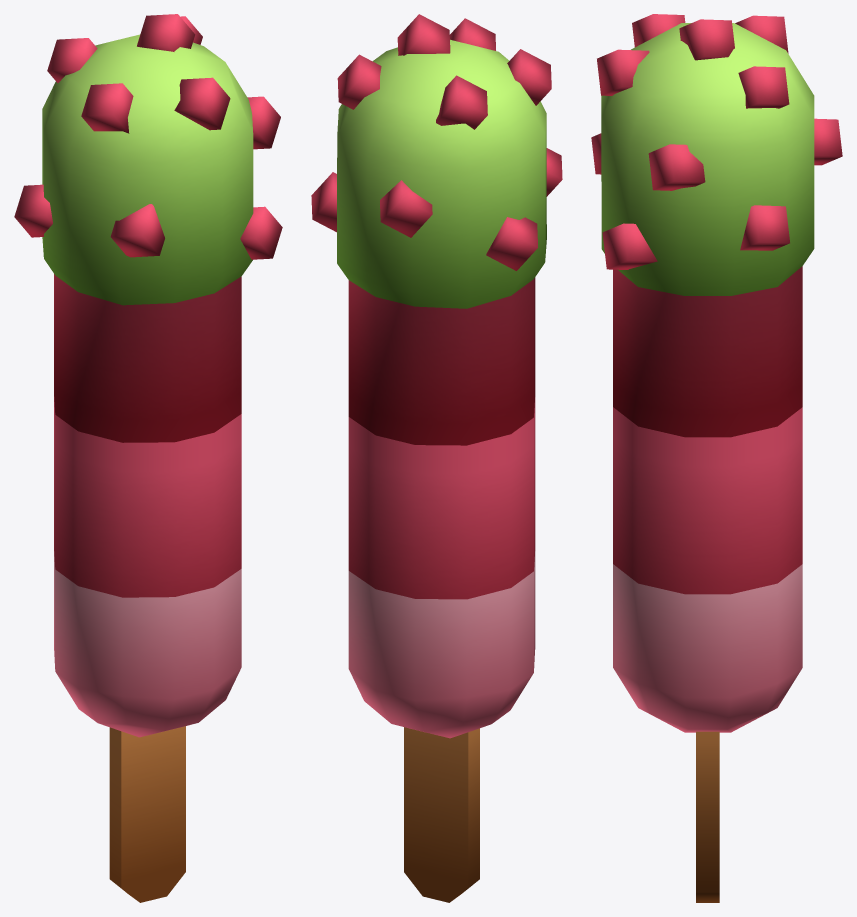
File: m_CactusPopsicle02.fbx
3 renders of one model, left to right at view 1: azimuth 30°, elevation 25°; view 2: azimuth 150°, elevation 25°; view 3: azimuth 270°, elevation 25°, orthographic. The views are drawn at different scales.
Parts seen in each view (by area): view 1: m_CactusPopsicle02; view 2: m_CactusPopsicle02; view 3: m_CactusPopsicle02.
Part boxes in pixels (<box>): m_CactusPopsicle02: <box>14,14,282,902</box>; m_CactusPopsicle02: <box>311,14,562,902</box>; m_CactusPopsicle02: <box>591,14,842,902</box>.
Size of the model in its own units: 6.64 by 24.02 by 6.15.
